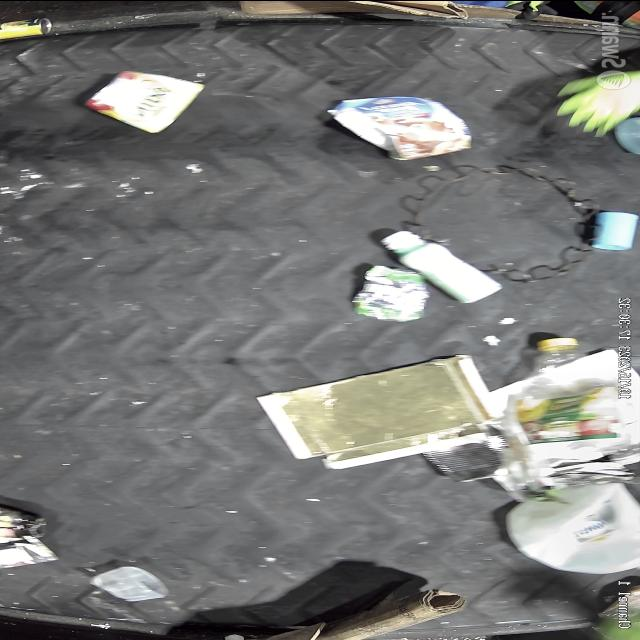can: (86, 59, 202, 131), (349, 260, 434, 322), (421, 424, 508, 482)
milk_jug: (495, 477, 640, 577)
plastic_bottle: (506, 328, 624, 458)
